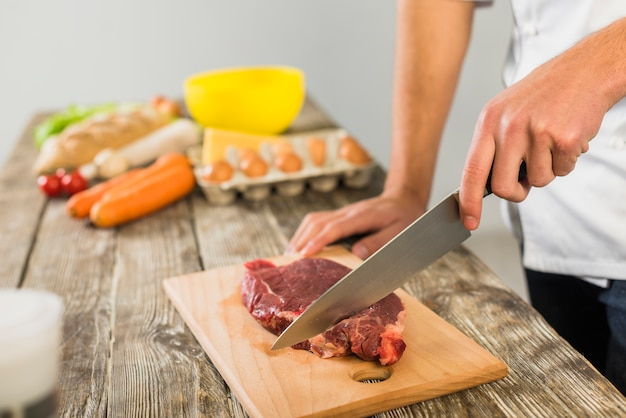knife: (267, 192, 475, 353)
